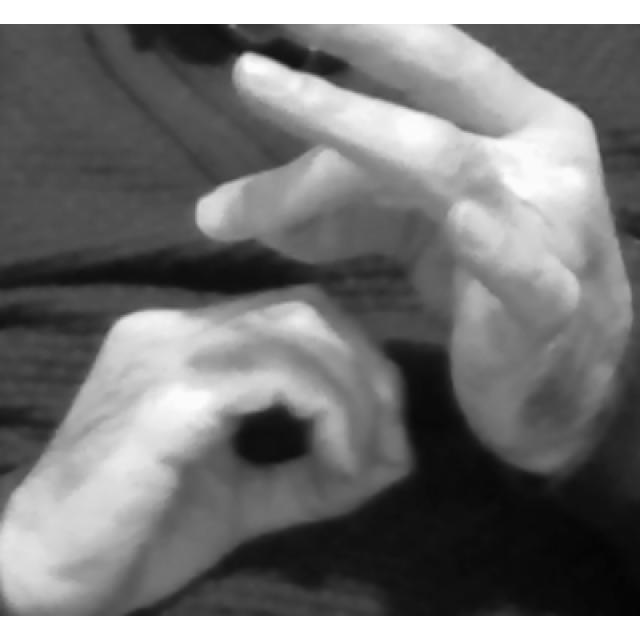O--: (2, 41, 638, 616)
